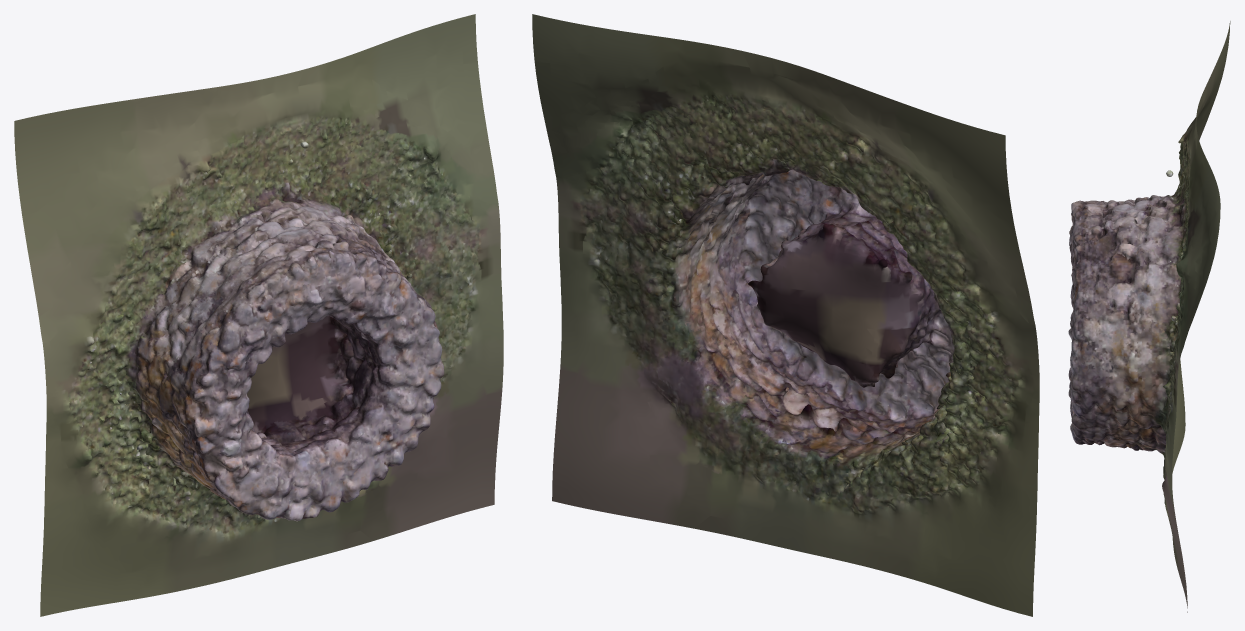
Rendered from Fountain.fbx.
3 renders of one model, left to right at view 1: azimuth 30°, elevation 25°; view 2: azimuth 150°, elevation 25°; view 3: azimuth 270°, elevation 25°, orthographic. The views are drawn at different scales.
Parts seen in each view (by area): view 1: Mesh[3.segmented.segmented.segmented] (level 8); view 2: Mesh[3.segmented.segmented.segmented] (level 8); view 3: Mesh[3.segmented.segmented.segmented] (level 8).
Part boxes in pixels (x1,y1,x2,y2): Mesh[3.segmented.segmented.segmented] (level 8): (14,14,503,616); Mesh[3.segmented.segmented.segmented] (level 8): (532,14,1039,616); Mesh[3.segmented.segmented.segmented] (level 8): (1068,21,1230,612).
Size of the model in its own units: 2.94 by 2.94 by 1.05.
